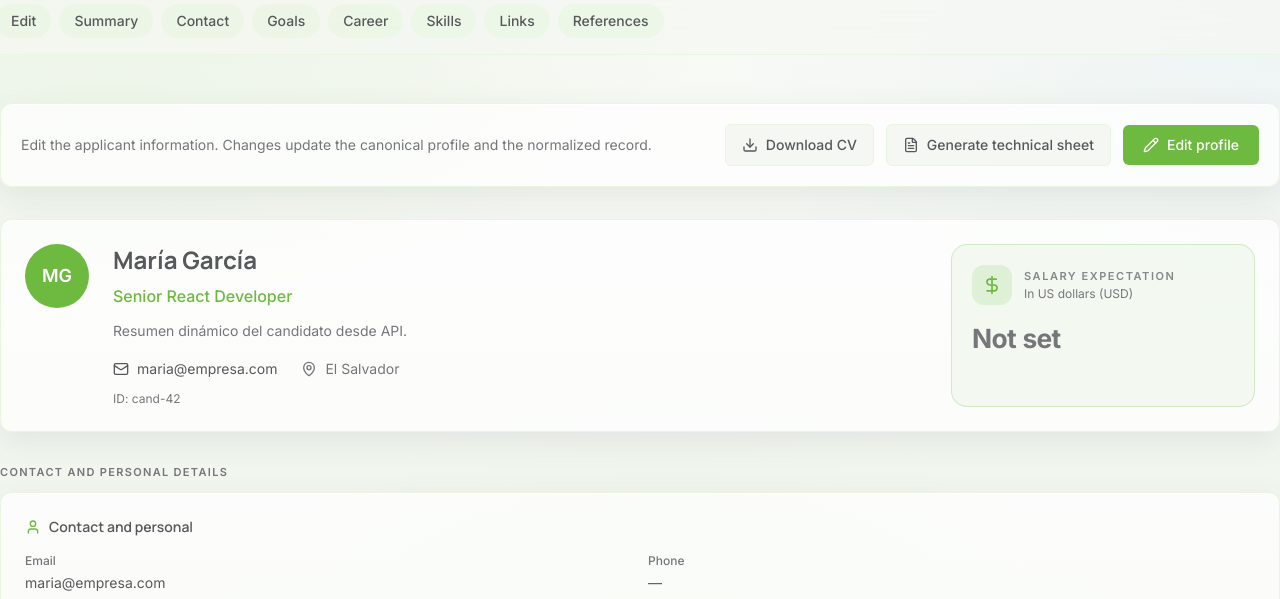
Test: RecruiterCandidateProfileView edit labels (Etapa 15) › renderiza labels del formulario de edición en inglés al editar
Click the button "Edit profile". click: (1191, 145)
box: [1123,125,1259,165]
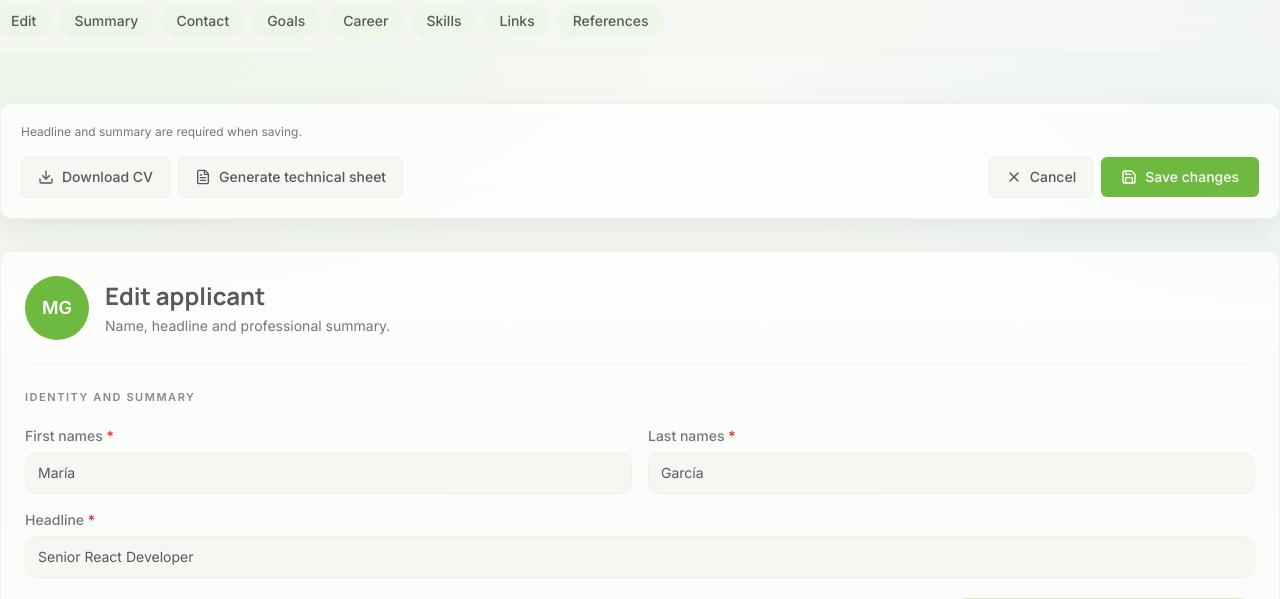
Expected: the button "Contact" is shown, [161,4,244,38]
Expected: the text "Identity and summary" is shown, [25,390,196,404]
